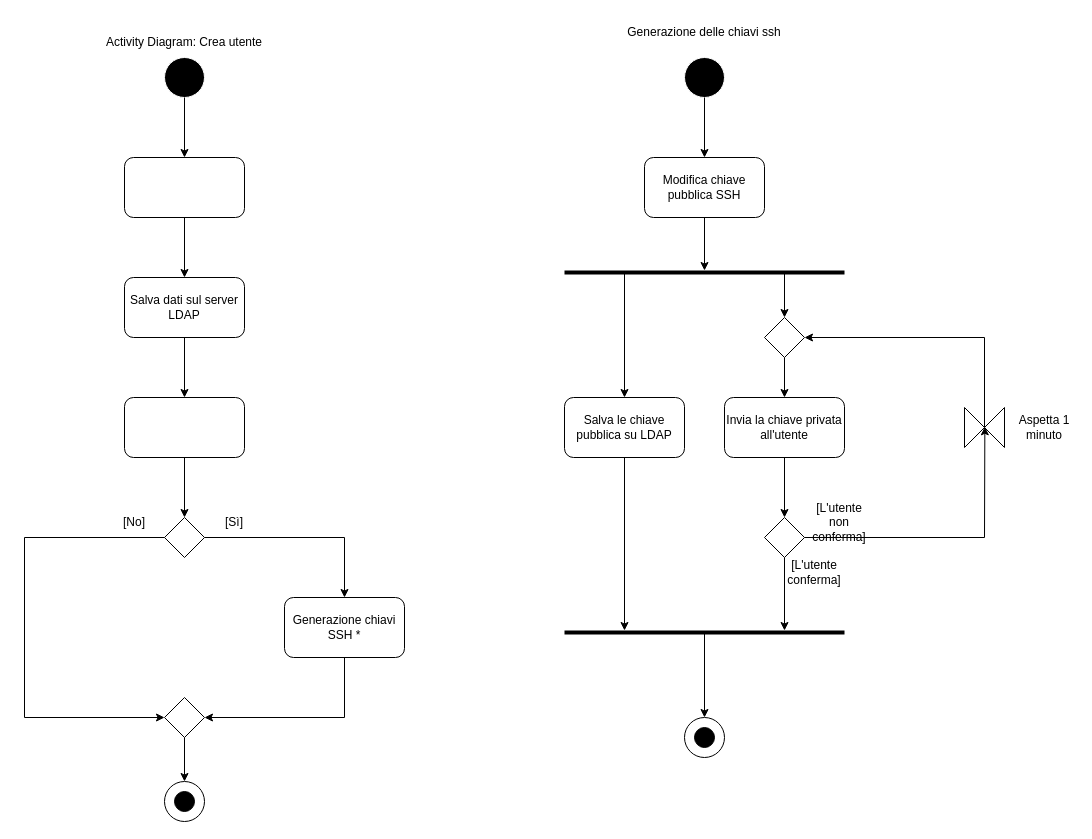
The diagram is 1092 pixels wide and 839 high, and some of its shapes have lost their labels. Each missing label, with the centre of its shape:
Inserimento dati nuovo utente: the point at 184,187
Richiesta generazione chiavi SSH del nuovo utente: the point at 184,427
